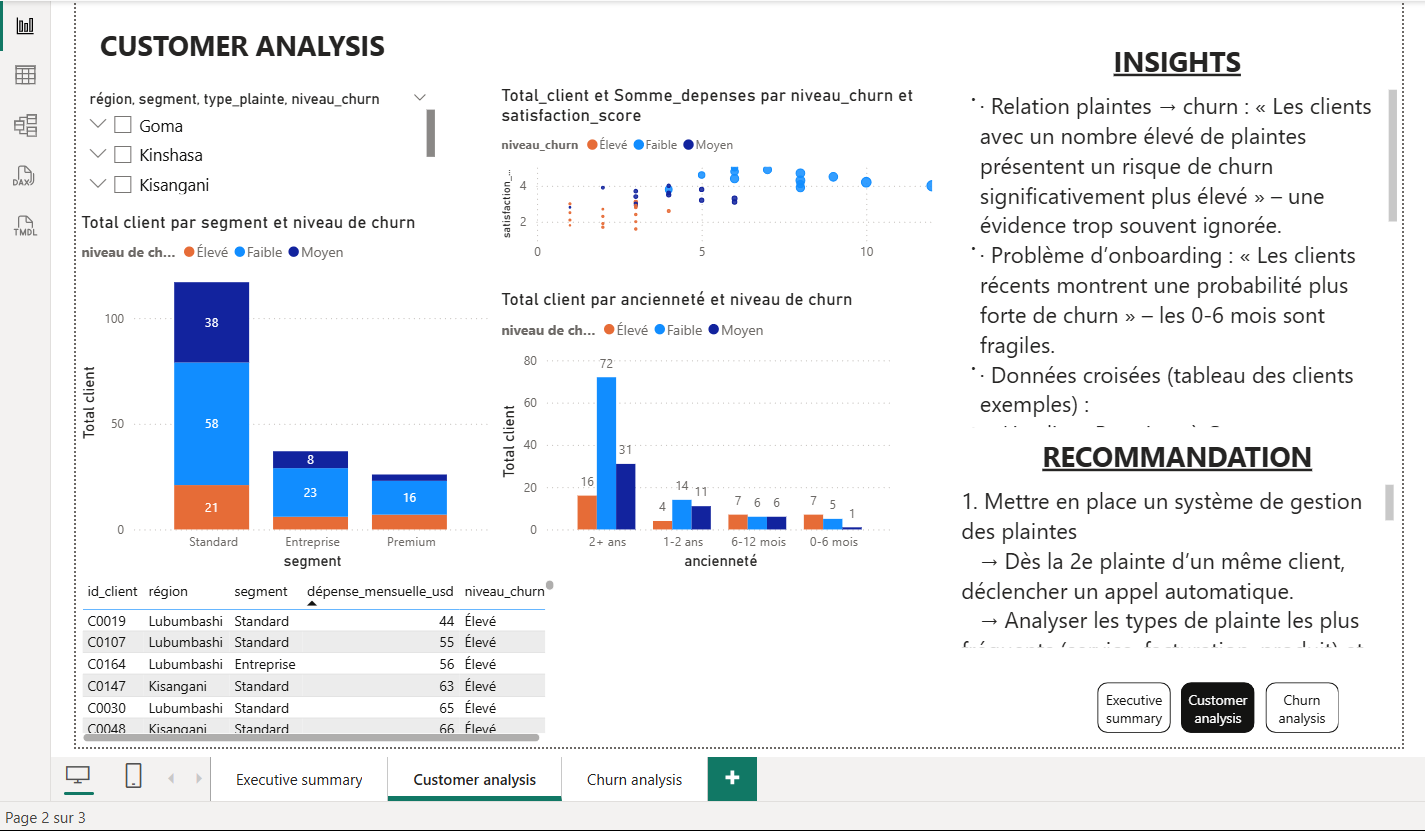

The dashboard page shown, as its layout file describes it:
{"tool":"powerbi","page":{"name":"Customer analysis","canvas":[1280,720],"ordinal":1},"visuals":[{"type":"textbox","box":[17.8,19.2,318.4,61.7],"z":0},{"type":"slicer","fields":{"Values":["Clients.région","Clients.segment","Plaintes.type_plainte","Clients.niveau_churn"]},"box":[0,80.8,351.1,111],"z":1},{"type":"columnChart","fields":{"Category":["Clients.segment"],"Y":["Clients.Total_client"],"Series":["Clients.niveau_churn"]},"box":[0,202.7,405.4,351.1],"z":2},{"type":"clusteredColumnChart","fields":{"Category":["Clients.Groupr_anciennete"],"Y":["Clients.Total_client"],"Series":["Clients.niveau_churn"]},"box":[405.4,277.5,389.7,276.3],"z":3},{"type":"scatterChart","fields":{"X":["Clients.Total_client"],"Y":["Clients.satisfaction_score"],"Size":["Clients.Somme_depenses"],"Series":["Clients.niveau_churn"]},"box":[405.4,80.8,433.1,179.8],"z":4},{"type":"tableEx","fields":{"Values":["Clients.id_client","Clients.région","Clients.segment","Clients.dépense_mensuelle_usd","Clients.niveau_churn"]},"box":[0,553.8,466.9,166.5],"z":5},{"type":"textbox","box":[849.3,80.8,430.7,335.4],"z":6},{"type":"pageNavigator","box":[985.7,657.5,235.3,49.5],"z":7},{"type":"textbox","box":[849.3,35,427.1,45.8],"z":8},{"type":"textbox","box":[849.3,416.2,427.1,45.8],"z":9},{"type":"textbox","box":[849.3,462.1,427.1,166.5],"z":10}]}

Visuals, with their boxes on the page's 1280x720 design canvas (x1, y1, x2, y2). These are canvas units, not pixel positions in the 1425x831 screenshot, which may show the page scaled, cropped or inside an application window:
textbox: 18/19/336/81
slicer - Clients.région x Clients.segment: 0/81/351/192
columnChart - Clients.segment x Clients.Total_client: 0/203/405/554
clusteredColumnChart - Clients.Groupr_anciennete x Clients.Total_client: 405/278/795/554
scatterChart - Clients.Total_client x Clients.satisfaction_score: 405/81/838/261
tableEx - Clients.id_client x Clients.région: 0/554/467/720
textbox: 849/81/1280/416
pageNavigator: 986/658/1221/707
textbox: 849/35/1276/81
textbox: 849/416/1276/462
textbox: 849/462/1276/629
